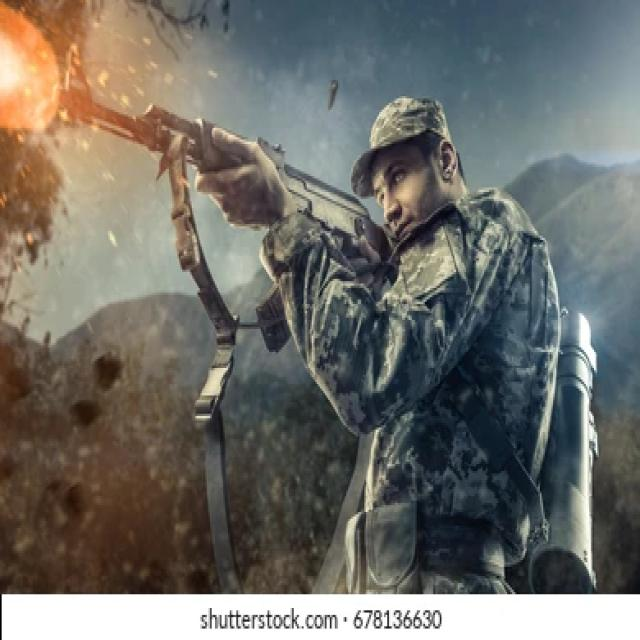soldier: (54, 46, 602, 588)
